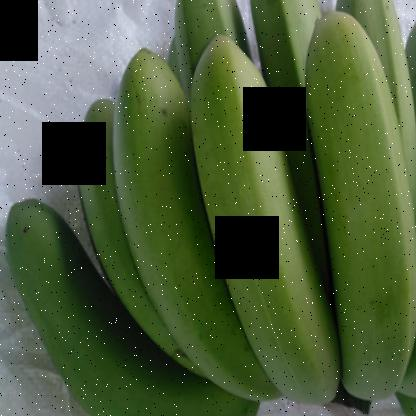freshunripe: (180, 24, 344, 396), (301, 0, 415, 413), (103, 29, 238, 331), (0, 193, 150, 415), (57, 71, 143, 272), (162, 0, 243, 58)
